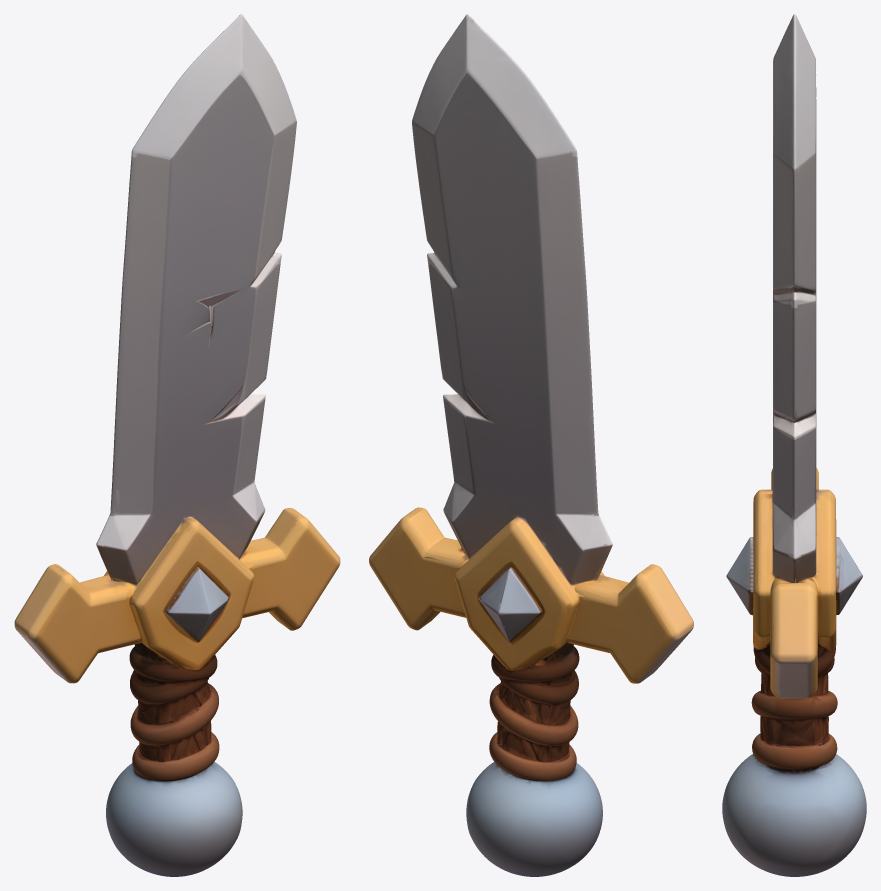
Rendered from sword.glb.
3 renders of one model, left to right at view 1: azimuth 30°, elevation 25°; view 2: azimuth 150°, elevation 25°; view 3: azimuth 270°, elevation 25°, orthographic. The views are drawn at different scales.
Parts seen in each view (by area): view 1: node_0; view 2: node_0; view 3: node_0.
Part boxes in pixels (x1,y1,x2,y2): node_0: (14, 14, 340, 876); node_0: (369, 14, 693, 876); node_0: (722, 14, 866, 876).
Bounding box in the file's own units: 0.4603 × 1.19 × 0.1744.
1 material, 1 textured.
